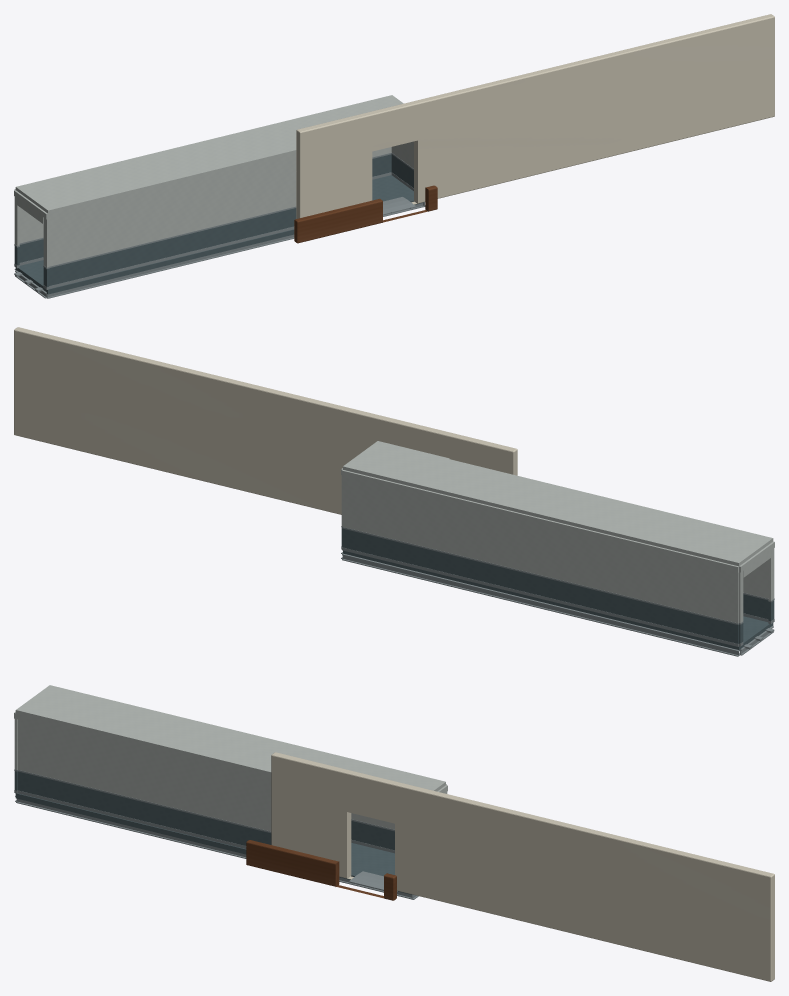
File: CELESTIAL_SERVICE_RECEIVER_r001.glb
3 renders of one model, top to bottom at view 1: azimuth 30°, elevation 25°; view 2: azimuth 150°, elevation 25°; view 3: azimuth 330°, elevation 25°, orthographic. The views are drawn at different scales.
Visible parts, largest first — view 1: CLS_SUCCESSOR_D12_directory_10__enclosure_1, CLS_BATCH_001, CLS_BATCH_000, CLS_BATCH_002, CLS_SUCCESSOR_D12_directory_10__dado-1_0; view 2: CLS_SUCCESSOR_D12_directory_10__enclosure_1, CLS_BATCH_001, CLS_BATCH_000, CLS_BATCH_002; view 3: CLS_SUCCESSOR_D12_directory_10__enclosure_1, CLS_BATCH_001, CLS_BATCH_000, CLS_BATCH_002, CLS_SUCCESSOR_D12_directory_10__dado-1_0.
Part boxes in pixels (x1=…): CLS_SUCCESSOR_D12_directory_10__enclosure_1: x1=296, y1=14, x2=774, y2=218; CLS_BATCH_001: x1=14, y1=95, x2=413, y2=267; CLS_BATCH_000: x1=14, y1=154, x2=423, y2=294; CLS_BATCH_002: x1=14, y1=152, x2=425, y2=298; CLS_SUCCESSOR_D12_directory_10__dado-1_0: x1=294, y1=185, x2=437, y2=243; CLS_SUCCESSOR_D12_directory_10__enclosure_1: x1=14, y1=327, x2=517, y2=514; CLS_BATCH_001: x1=341, y1=441, x2=774, y2=623; CLS_BATCH_000: x1=341, y1=528, x2=774, y2=651; CLS_BATCH_002: x1=341, y1=526, x2=774, y2=656; CLS_SUCCESSOR_D12_directory_10__enclosure_1: x1=271, y1=752, x2=774, y2=981; CLS_BATCH_001: x1=14, y1=685, x2=447, y2=831; CLS_BATCH_000: x1=14, y1=771, x2=411, y2=894; CLS_BATCH_002: x1=14, y1=769, x2=418, y2=899; CLS_SUCCESSOR_D12_directory_10__dado-1_0: x1=246, y1=840, x2=396, y2=900.
Size of the model in its own units: 38.3 by 5.51 by 4.44.
Materials: 6 (5 with a texture image).
